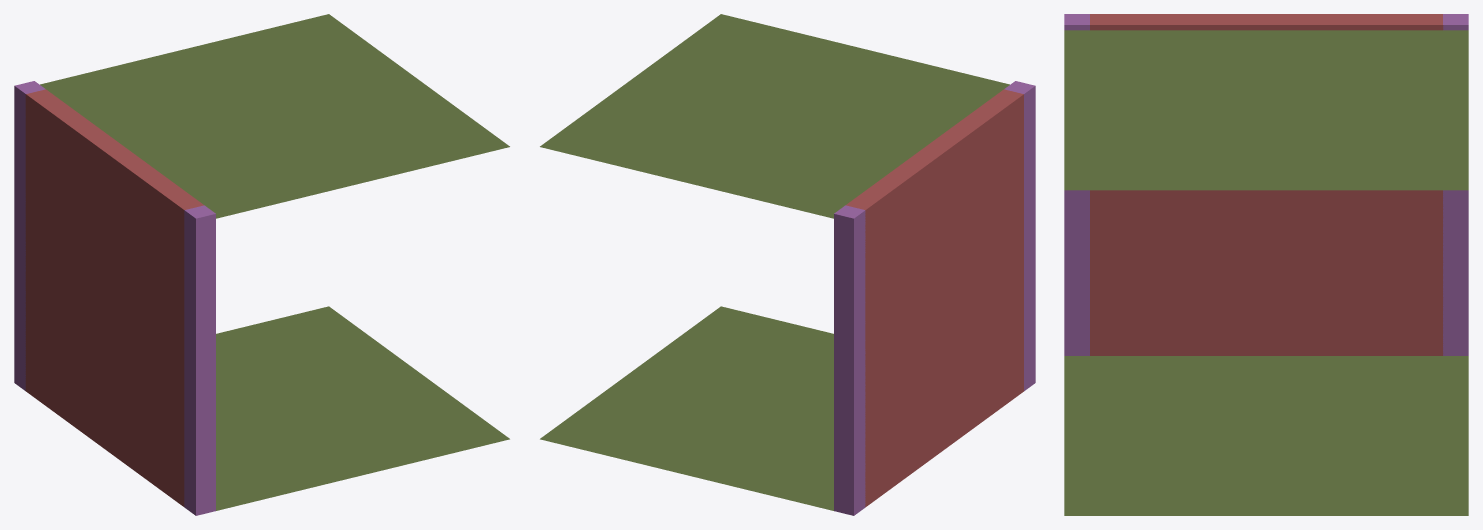
The model's file is building_wall.fbx.
3 views of the same model, side by side, from view 1: azimuth 30°, elevation 25°; view 2: azimuth 150°, elevation 25°; view 3: azimuth 270°, elevation 25° (orthographic). The views are drawn at different scales.
Parts seen in each view (by area): view 1: building_wall1; view 2: building_wall1; view 3: building_wall1.
Part boxes in pixels (x1,y1,x2,y2): building_wall1: [14, 14, 509, 515]; building_wall1: [540, 14, 1035, 515]; building_wall1: [1064, 14, 1468, 515].
Size of the model in its own units: 1 by 0.9033 by 1.
